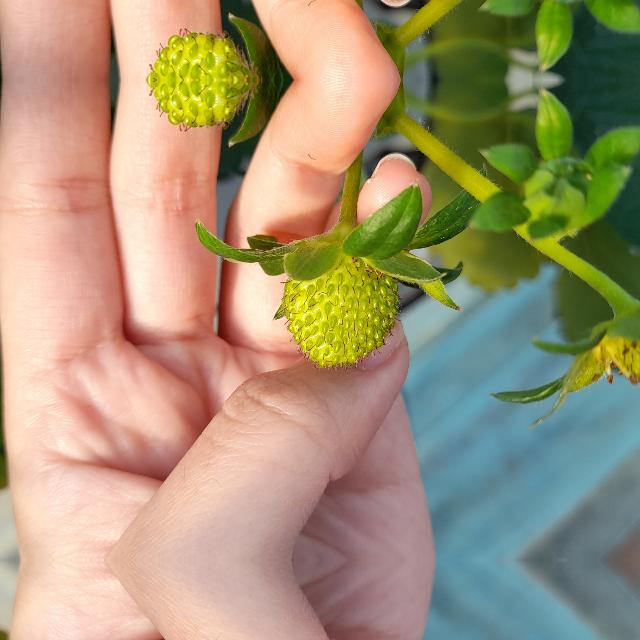Health_25: (280, 250, 404, 370)
